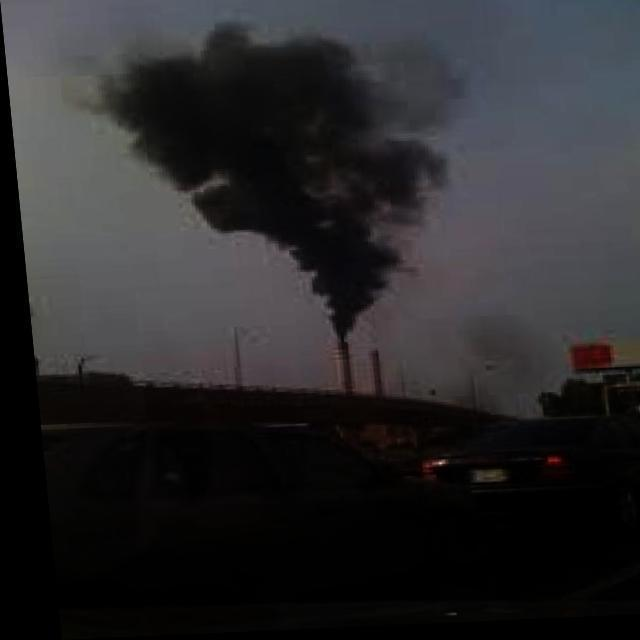Smoke: (82, 21, 466, 330)
